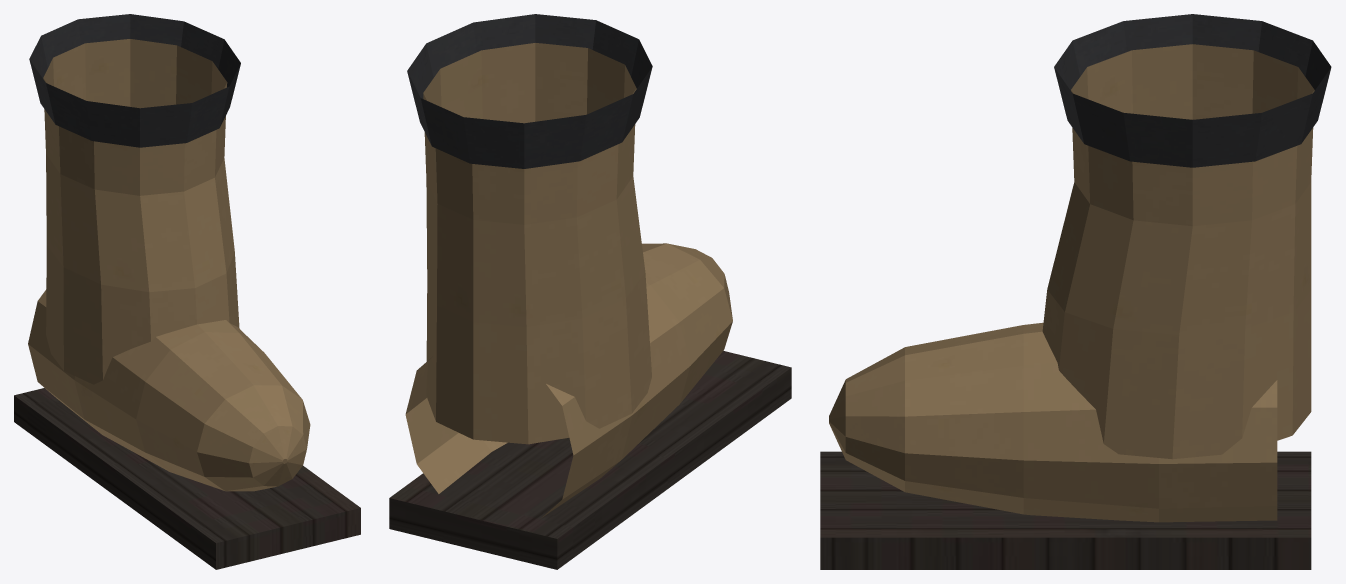
Rendered from eq_present_2_boot.glb.
3 renders of one model, left to right at view 1: azimuth 30°, elevation 25°; view 2: azimuth 150°, elevation 25°; view 3: azimuth 270°, elevation 25°, orthographic. The views are drawn at different scales.
Parts seen in each view (by area): view 1: eq_present_2_boot; view 2: eq_present_2_boot; view 3: eq_present_2_boot.
Boxes of the visible parts, x1,y1,x2,y2 form: eq_present_2_boot: (14, 14, 360, 569); eq_present_2_boot: (389, 14, 791, 569); eq_present_2_boot: (820, 14, 1331, 569).
Size of the model in its own units: 0.1539 by 0.312 by 0.3141.
Materials: 3 (3 with a texture image).
